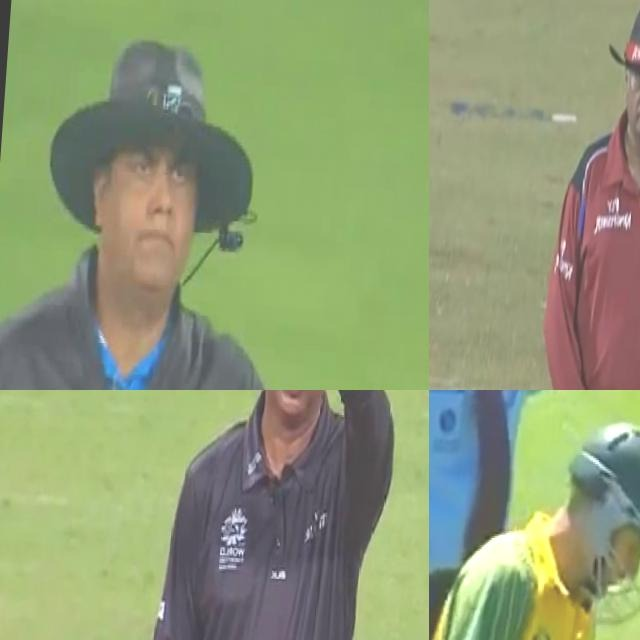No_Ball: (0, 13, 429, 390)
Out: (138, 390, 417, 640), (526, 0, 640, 390)
Wide: (429, 390, 640, 572)
